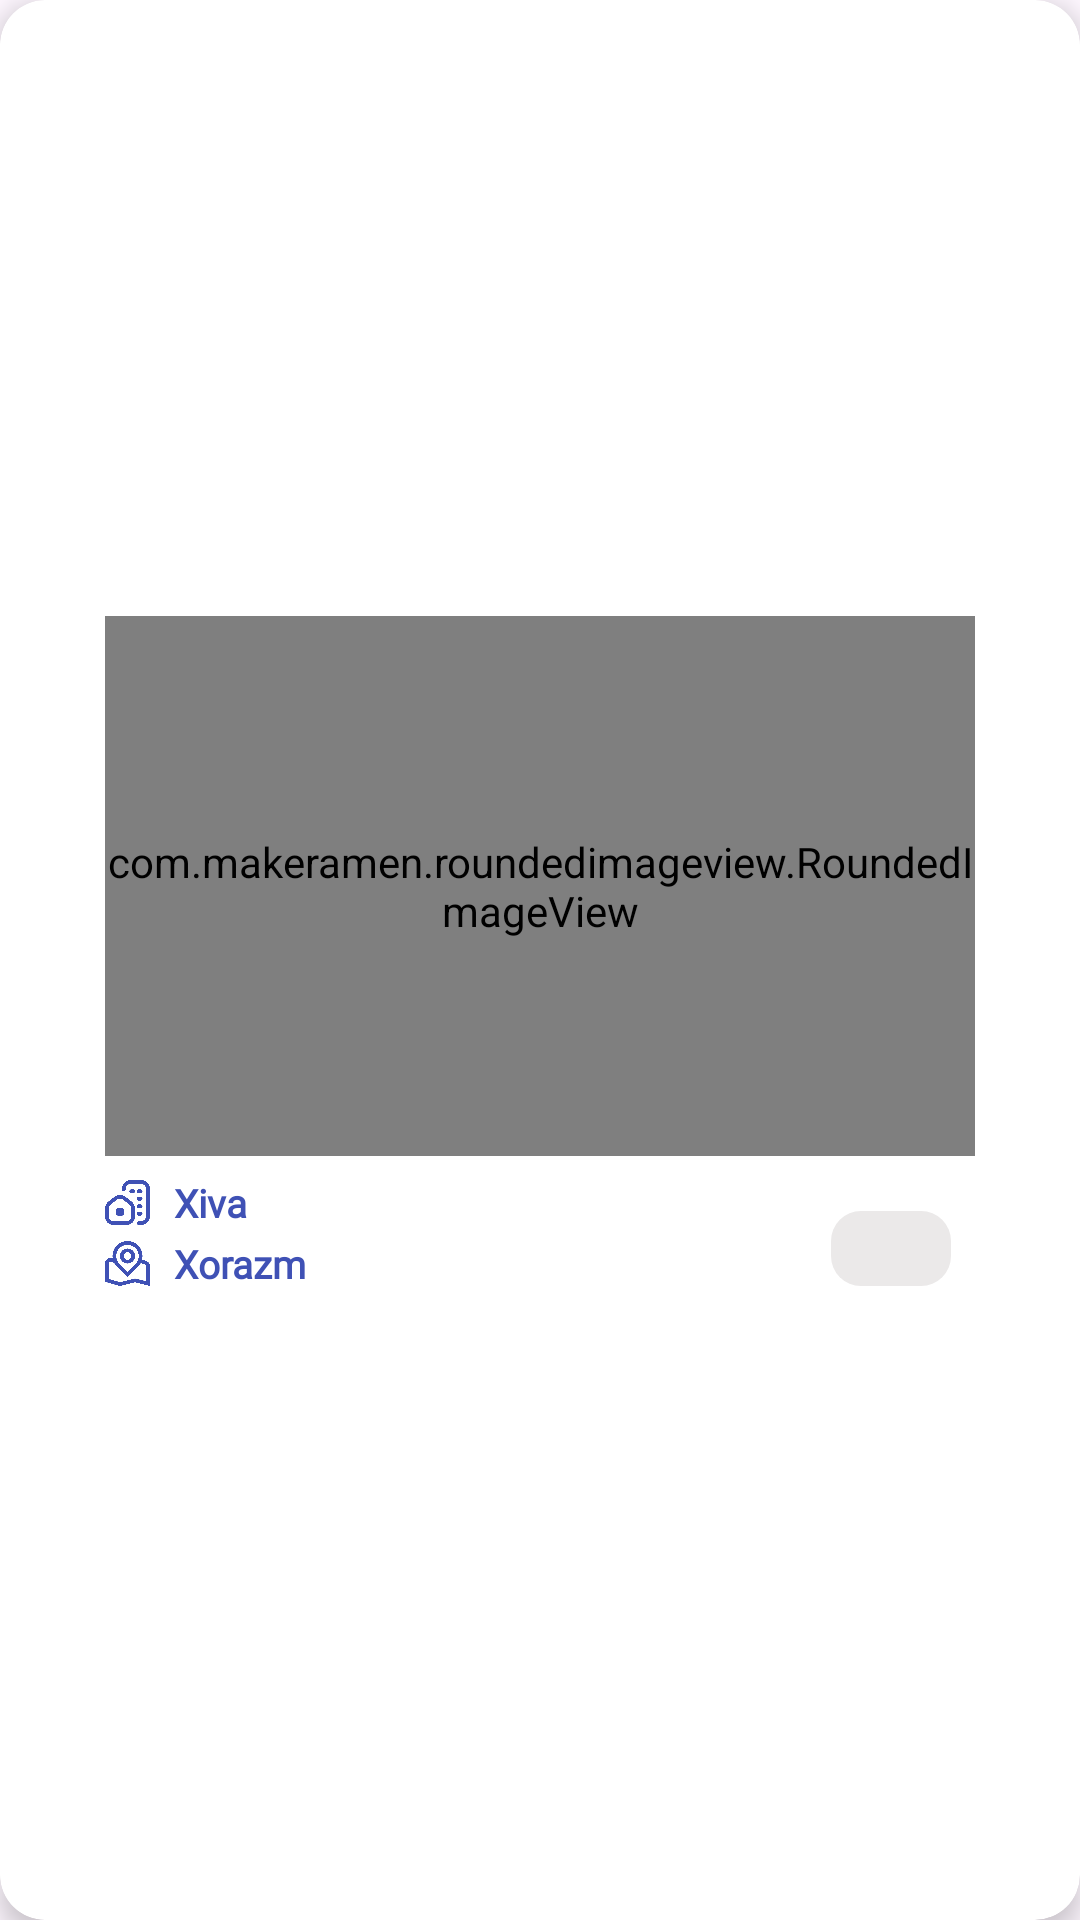

Locate icon controls on the screen. Image size 1080px×1920px, boxes as (x1, y1, x2, y2).
city: (105, 1180, 150, 1225)
map: (105, 1241, 150, 1286)
